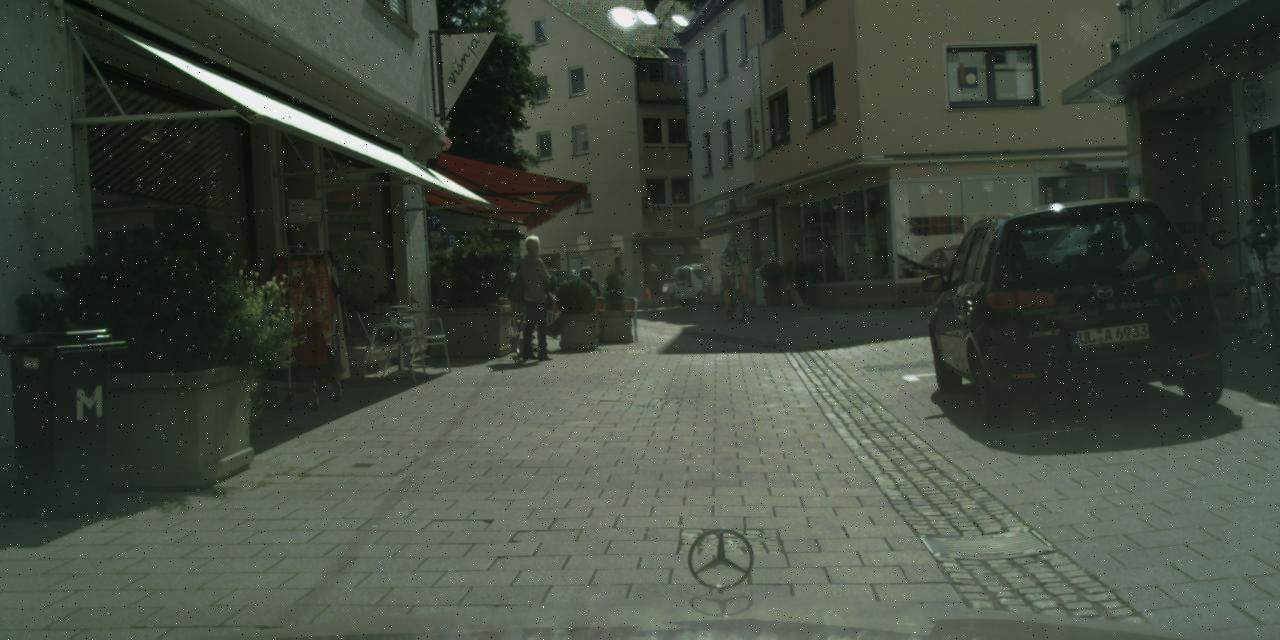ped: (509, 236, 560, 360), (720, 238, 746, 304), (647, 263, 664, 307), (612, 271, 627, 308), (666, 276, 678, 306)
